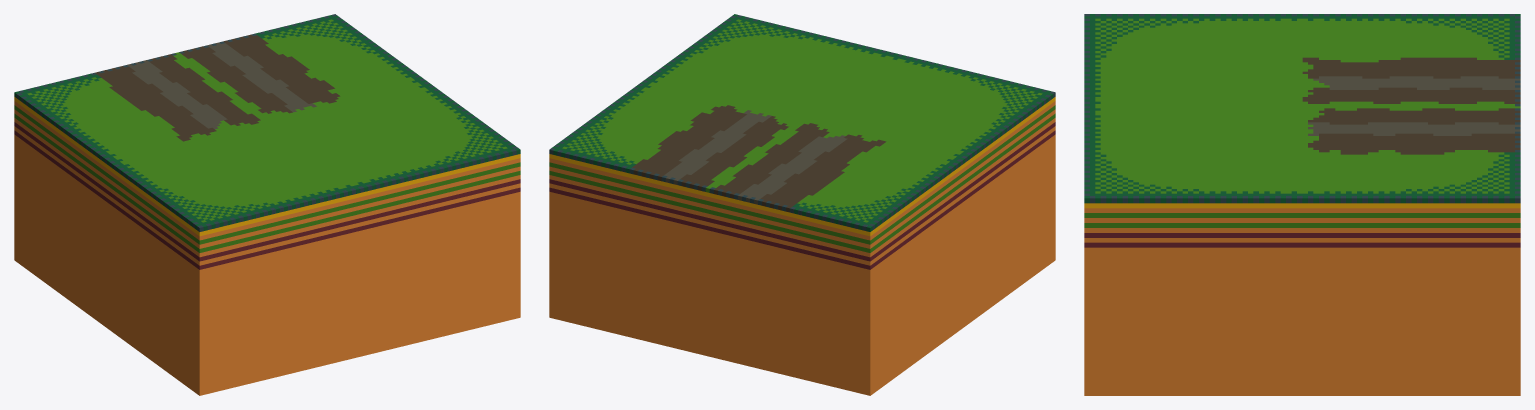
The model's file is road_transition_3_tile.obj.
The picture shows the model from 3 angles, left to right: view 1: azimuth 30°, elevation 25°; view 2: azimuth 150°, elevation 25°; view 3: azimuth 270°, elevation 25°; orthographic projection. The views are drawn at different scales.
Size of the model in its own units: 8 by 4 by 8.
Materials: 1 (1 with a texture image).
